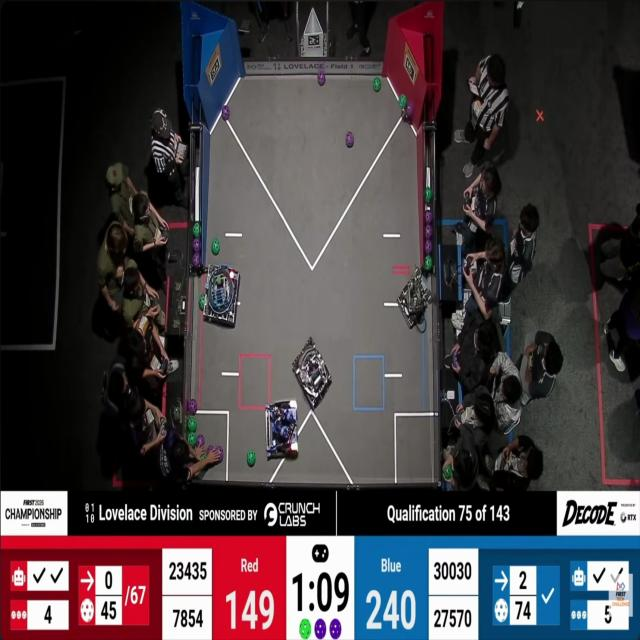artifact_green: (299, 619, 311, 640), (187, 398, 197, 416), (247, 450, 256, 468), (192, 253, 201, 270), (188, 416, 197, 433), (424, 186, 433, 202), (196, 434, 205, 449), (346, 132, 354, 148), (212, 239, 220, 255), (444, 465, 452, 480), (425, 256, 433, 271), (373, 77, 381, 92), (188, 433, 196, 447), (193, 223, 201, 237), (399, 94, 407, 108), (199, 295, 206, 310), (216, 275, 222, 286), (201, 454, 206, 460)
artifact_purple: (315, 619, 326, 639), (330, 619, 341, 639), (188, 399, 197, 415), (405, 103, 413, 119), (346, 132, 354, 148), (215, 446, 223, 462), (192, 253, 201, 267), (196, 434, 205, 448), (425, 209, 433, 224), (222, 105, 229, 121), (193, 238, 201, 252), (425, 225, 433, 239), (425, 222, 432, 238), (318, 71, 325, 86), (425, 240, 432, 255), (207, 446, 215, 454), (189, 463, 194, 468)
